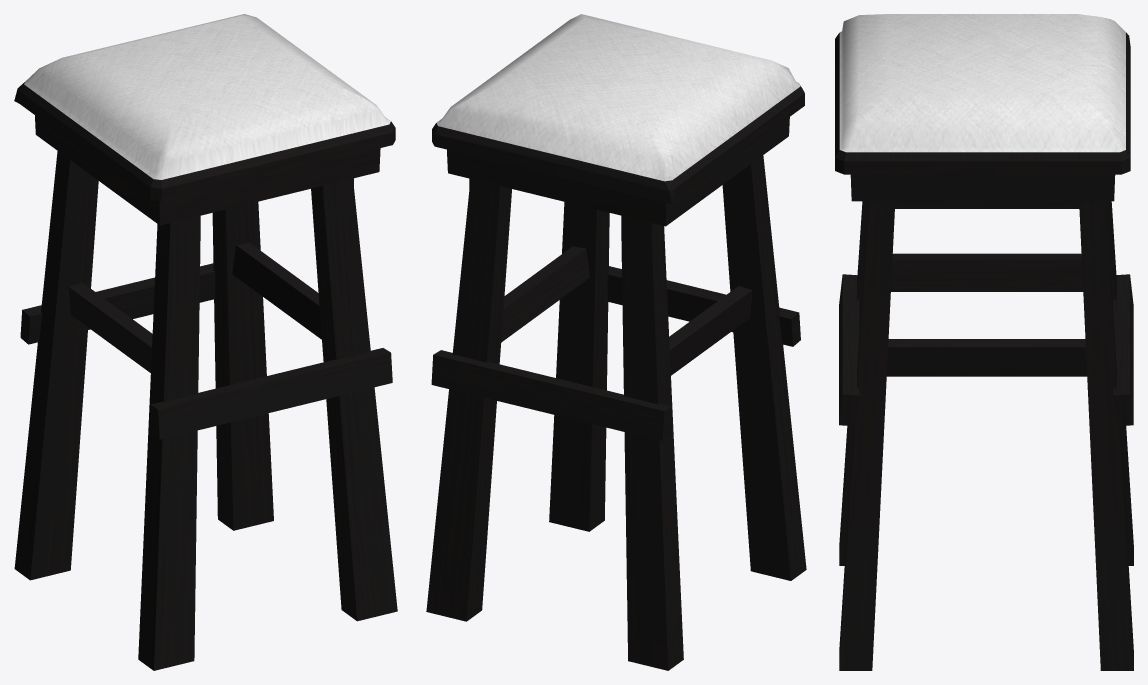
The model's file is Barstool_A.FBX.
3 renders of one model, left to right at view 1: azimuth 30°, elevation 25°; view 2: azimuth 150°, elevation 25°; view 3: azimuth 270°, elevation 25°, orthographic. The views are drawn at different scales.
Parts seen in each view (by area): view 1: Bar_Stool; view 2: Bar_Stool; view 3: Bar_Stool.
Part boxes in pixels (left/top/right/bottom): Bar_Stool: left=14, top=14, right=397, bottom=670; Bar_Stool: left=426, top=14, right=806, bottom=670; Bar_Stool: left=835, top=14, right=1133, bottom=670.
Size of the model in its own units: 85.32 by 174 by 84.9.
